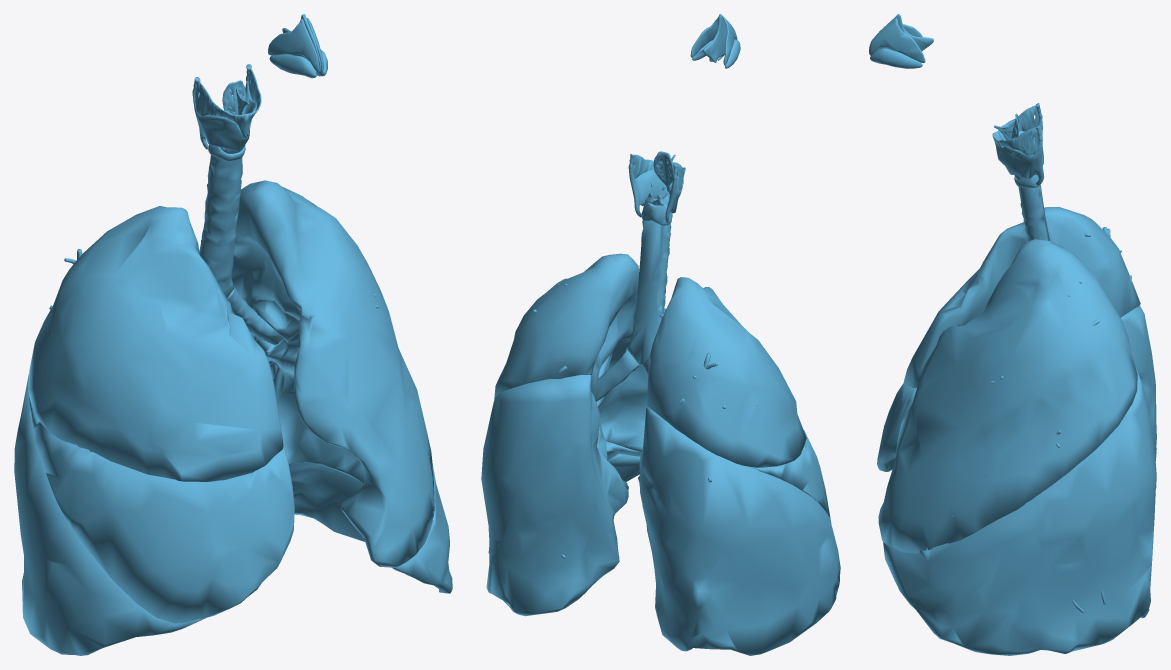
Rendered from respiratory.glb.
3 views of the same model, side by side, from view 1: azimuth 30°, elevation 25°; view 2: azimuth 150°, elevation 25°; view 3: azimuth 270°, elevation 25° (orthographic). The views are drawn at different scales.
Parts seen in each view (by area): view 1: R3_FMA7333, R3_FMA7370, R3_FMA7383, R3_FMA7337, R3_FMA7371, FJ2541, FJ2808, FJ2558, FJ2450, FJ2554, FJ2804; view 2: R3_FMA7337, R3_FMA7371, R3_FMA7333, R3_FMA7370, FJ2541, R3_FMA7383, FJ2808, FJ2450, FJ2557, FJ2770; view 3: R3_FMA7370, R3_FMA7371, R3_FMA7333, R3_FMA7337, R3_FMA7383, FJ2808, FJ2541, FJ2556, FJ2555, FJ2786, FJ2804.
Part boxes in pixels (x1,y1,x2,y2): R3_FMA7333: (28, 206, 283, 481); R3_FMA7370: (231, 180, 434, 567); R3_FMA7383: (29, 397, 294, 623); R3_FMA7337: (14, 374, 205, 655); R3_FMA7371: (266, 344, 452, 593); FJ2541: (199, 155, 242, 297); FJ2808: (192, 80, 256, 151); FJ2558: (268, 18, 319, 73); FJ2450: (227, 287, 283, 344); FJ2554: (269, 54, 316, 78); FJ2804: (193, 80, 236, 122); R3_FMA7337: (638, 406, 840, 655); R3_FMA7371: (481, 375, 639, 616); R3_FMA7333: (647, 277, 806, 467); R3_FMA7370: (494, 253, 665, 456); FJ2541: (627, 220, 671, 365); R3_FMA7383: (748, 430, 830, 517); FJ2808: (628, 168, 683, 223); FJ2450: (594, 347, 640, 401); FJ2557: (703, 14, 734, 62); FJ2770: (653, 151, 673, 186); R3_FMA7370: (878, 239, 1137, 553); R3_FMA7371: (883, 369, 1156, 655); R3_FMA7333: (903, 207, 1140, 388); R3_FMA7337: (891, 305, 1156, 470); R3_FMA7383: (877, 383, 916, 471); FJ2808: (998, 117, 1043, 185); FJ2541: (1018, 184, 1049, 241); FJ2556: (869, 18, 925, 62); FJ2555: (870, 48, 922, 68); FJ2786: (998, 127, 1040, 155); FJ2804: (999, 105, 1038, 139).
Bounding box in the file's own units: 0.2524 × 0.416 × 0.1922.
